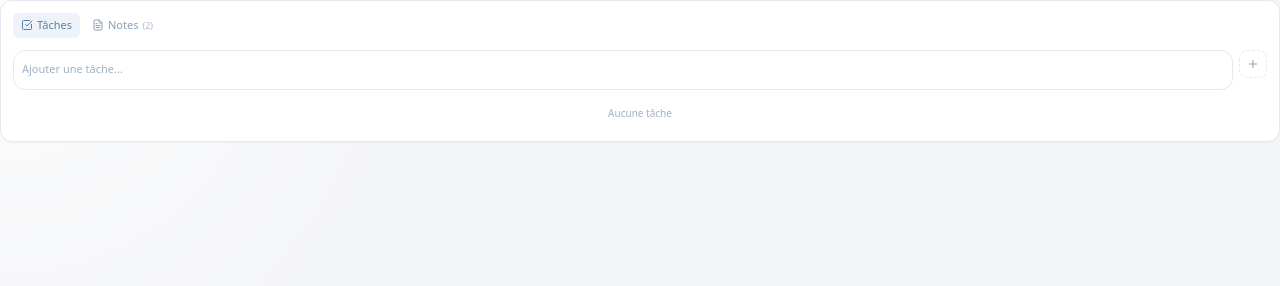
Test case: TasksNotes — Notes tab › shows the drawer toggle with note count
Click the button "Notes (2)" at (122, 25), box [84,13,161,38]
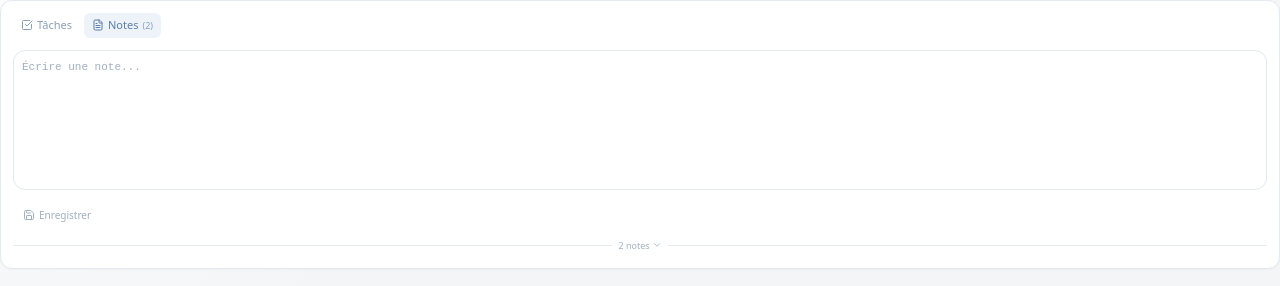
Check: the text "2 notes" is shown, box [618,238,662,252]
